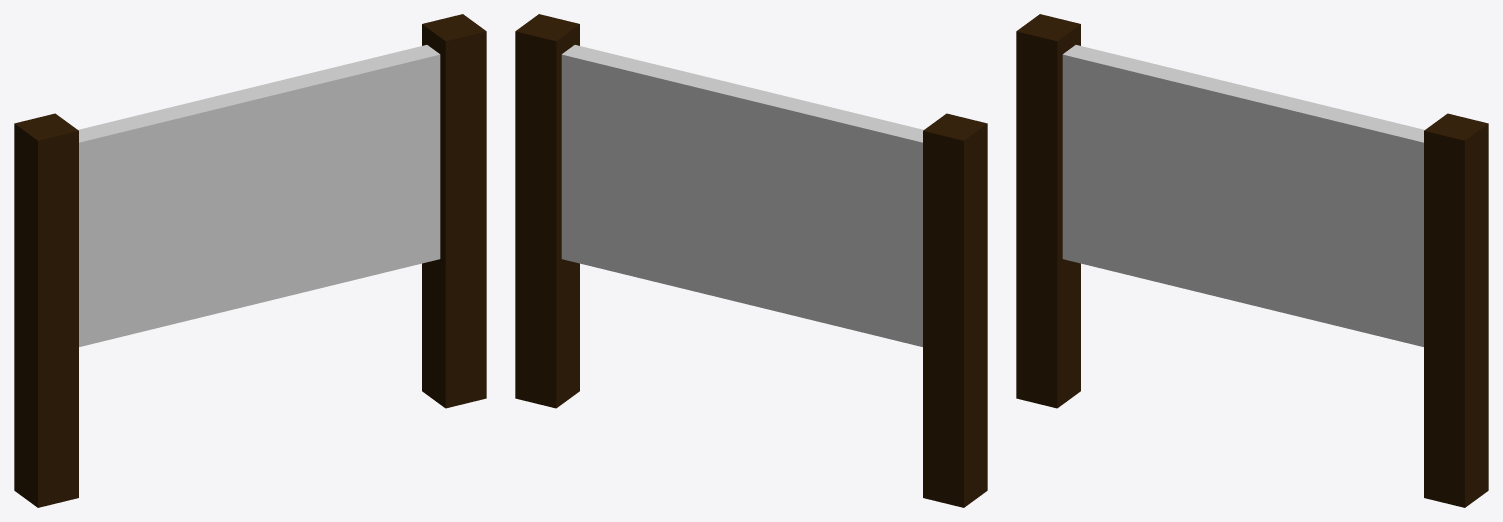
The model's file is Bulletin Board.fbx.
3 views of the same model, side by side, from view 1: azimuth 30°, elevation 25°; view 2: azimuth 150°, elevation 25°; view 3: azimuth 330°, elevation 25° (orthographic).
Visible parts, largest first — view 1: Cube; view 2: Cube; view 3: Cube.
Part boxes in pixels (left/top/right/bottom): Cube: left=14, top=14, right=486, bottom=507; Cube: left=515, top=14, right=987, bottom=507; Cube: left=1016, top=14, right=1488, bottom=507.
Size of the model in its own units: 2188 by 1712 by 200.
